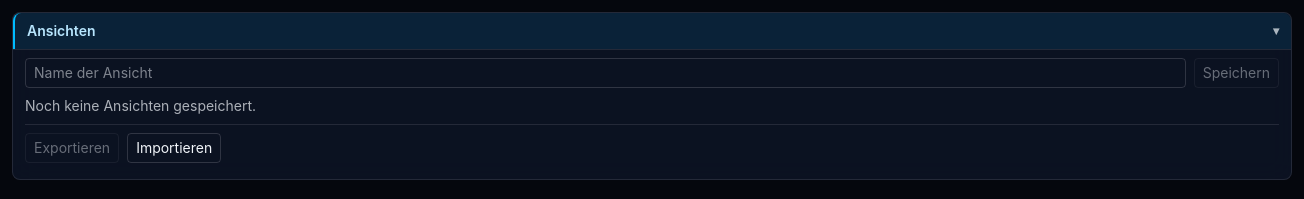
Scenario: AnsichtenPanel: speichern und laden › speichert die Einstellungen ohne Zeitpunkt, Kino, Qualität und Oberfläche und leert das Feld
In the field labelled "Name der Ansicht": [605, 73] box [25,58,1186,88], type " Saturn "
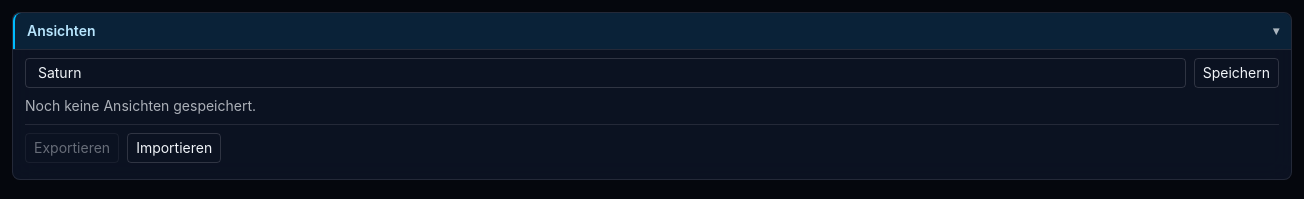
Click the button "Speichern": [1236, 73] box [1194,58,1279,88]
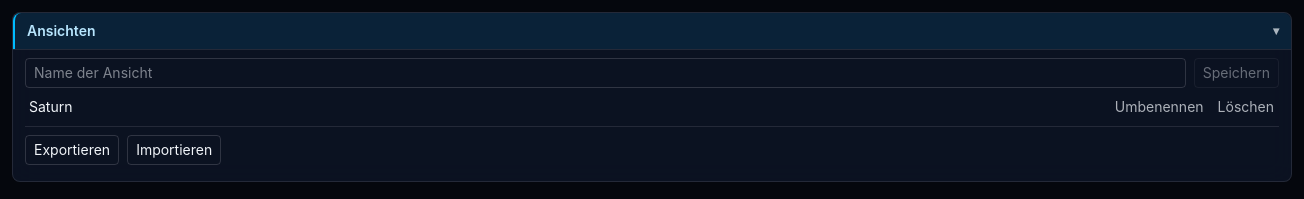
Result: the button with aria-label "Ansicht laden: Saturn" is shown at [25,97,1106,117]
Result: the field labelled "Name der Ansicht" is empty at [25,58,1186,88]
Result: the text "Noch keine Ansichten gespeichert." is gone
